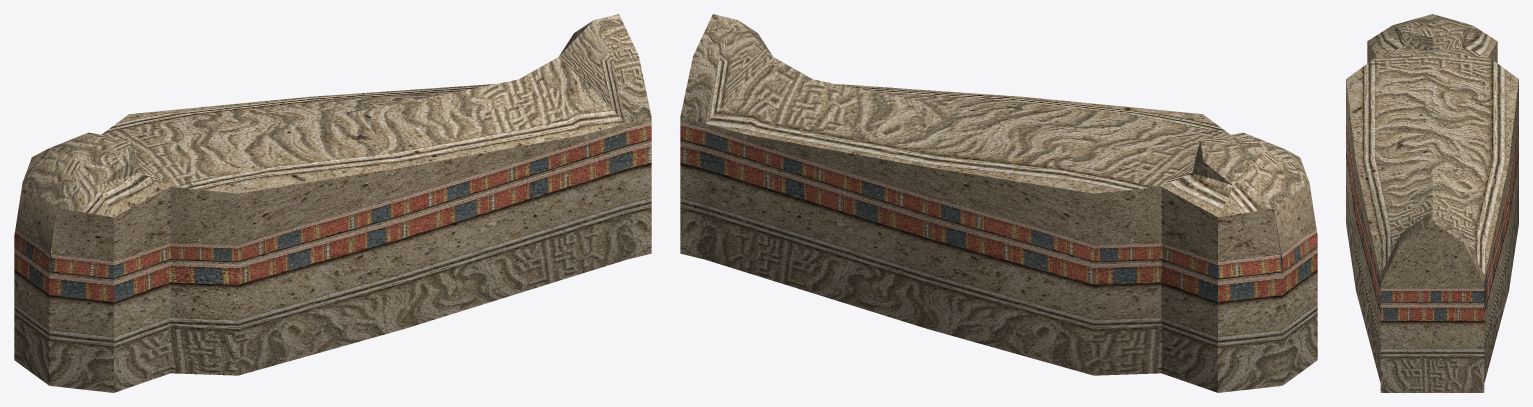
File: mm9_deco_sarcophagusns3.glb
3 renders of one model, left to right at view 1: azimuth 30°, elevation 25°; view 2: azimuth 150°, elevation 25°; view 3: azimuth 270°, elevation 25°, orthographic. The views are drawn at different scales.
Parts seen in each view (by area): view 1: Sarcophagusns3; view 2: Sarcophagusns3; view 3: Sarcophagusns3.
Boxes of the visible parts, x1=… form: Sarcophagusns3: x1=14, y1=14, x2=651, y2=392; Sarcophagusns3: x1=680, y1=14, x2=1317, y2=392; Sarcophagusns3: x1=1346, y1=14, x2=1518, y2=392.
Size of the model in its own units: 2.37 by 0.8324 by 0.7602.
1 material, 1 textured.
